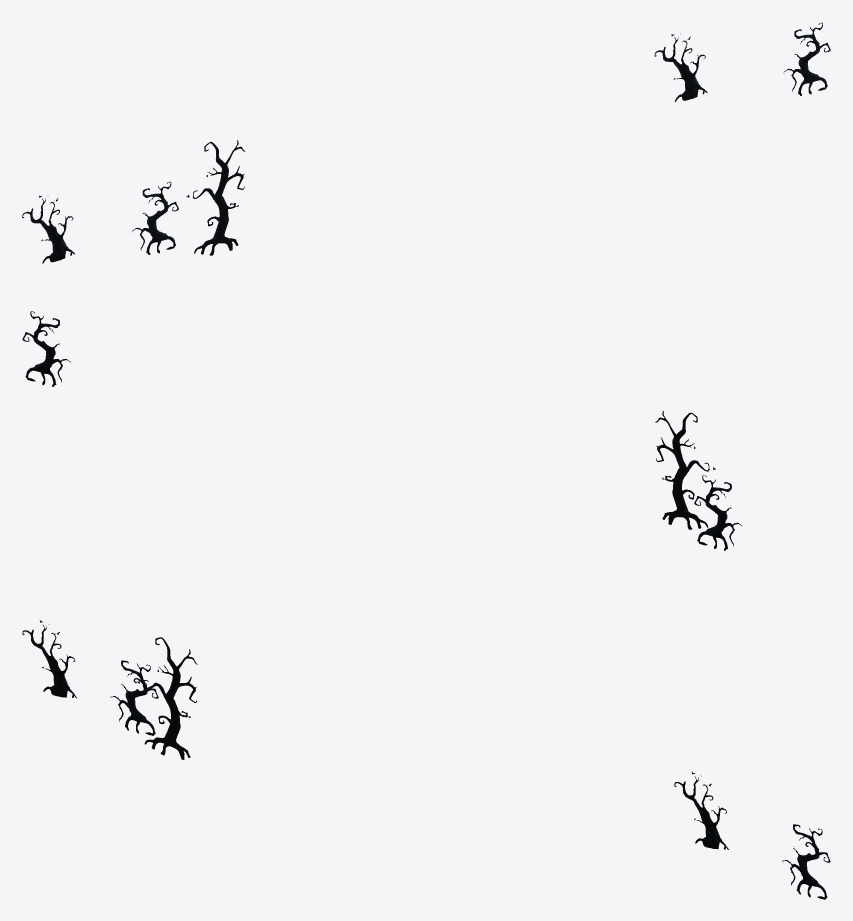
Rendered from Dark Forest Scary Trees FG.FBX.
The picture shows the model from 3 angles, top to bottom: view 1: azimuth 30°, elevation 25°; view 2: azimuth 150°, elevation 25°; view 3: azimuth 330°, elevation 25°; orthographic projection. The views are drawn at different scales.
Parts seen in each view (by area): view 1: Scary Trees FG Part 1, Scary Trees FG Part 2; view 2: Scary Trees FG Part 1, Scary Trees FG Part 2; view 3: Scary Trees FG Part 1, Scary Trees FG Part 2.
Part boxes in pixels (left/top/right/bottom): Scary Trees FG Part 1: left=22, top=140, right=245, bottom=263; Scary Trees FG Part 2: left=654, top=22, right=830, bottom=101; Scary Trees FG Part 1: left=655, top=411, right=742, bottom=550; Scary Trees FG Part 2: left=22, top=311, right=70, bottom=386; Scary Trees FG Part 1: left=22, top=620, right=197, bottom=759; Scary Trees FG Part 2: left=674, top=772, right=830, bottom=899.
Size of the model in its own units: 5638 by 320 by 890.
